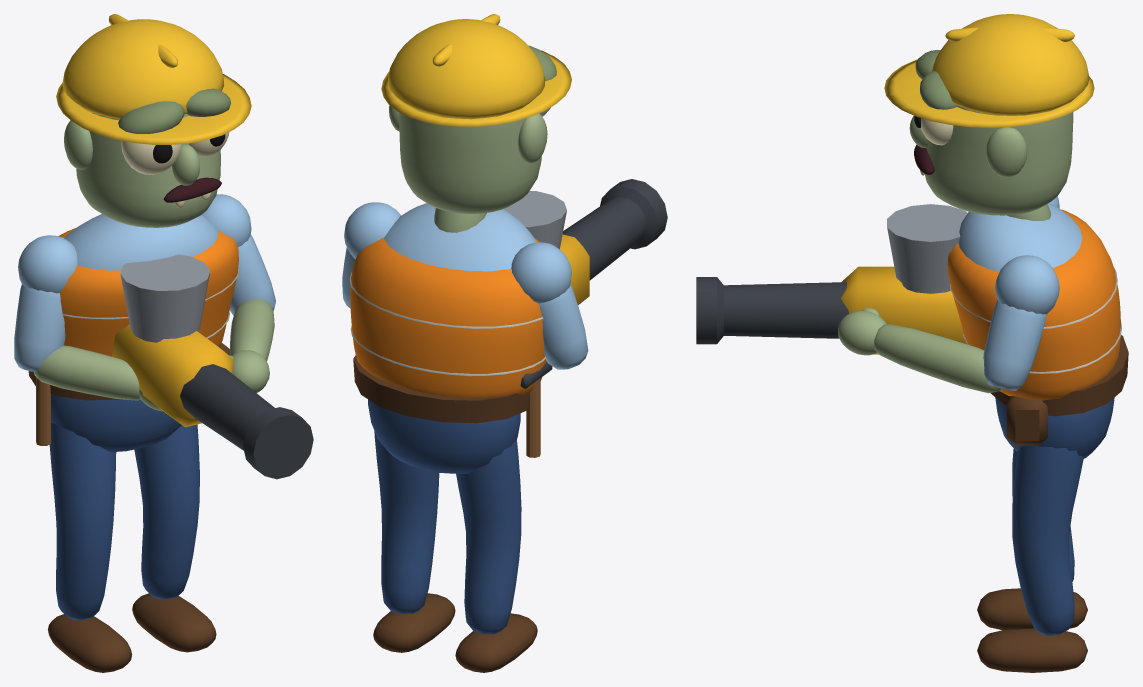
File: engineer.glb
The picture shows the model from 3 angles, left to right: view 1: azimuth 30°, elevation 25°; view 2: azimuth 150°, elevation 25°; view 3: azimuth 270°, elevation 25°; orthographic projection. The views are drawn at different scales.
Visible parts, largest first — view 1: Weapon, Hardhat, Head, LegR, LegL, ArmR, Vest, ArmL, Torso, Hips, Belt; view 2: Vest, Hardhat, Head, LegR, LegL, Weapon, Torso, Hips, Belt, ArmR, ArmL; view 3: Weapon, Hardhat, LegL, Head, Vest, ArmL, Torso, Belt, Hips, LegR.
Boxes of the visible parts, bbox=[...] form: Weapon: bbox=[112, 254, 313, 479]; Hardhat: bbox=[56, 14, 251, 144]; Head: bbox=[64, 88, 230, 227]; LegR: bbox=[48, 423, 131, 672]; LegL: bbox=[132, 424, 216, 652]; ArmR: bbox=[14, 235, 162, 411]; Vest: bbox=[58, 228, 238, 356]; ArmL: bbox=[202, 194, 275, 392]; Torso: bbox=[64, 214, 217, 270]; Hips: bbox=[51, 394, 181, 451]; Belt: bbox=[28, 343, 230, 445]; Vest: bbox=[349, 238, 546, 397]; Hardhat: bbox=[381, 14, 571, 126]; Head: bbox=[389, 45, 556, 213]; LegR: bbox=[455, 439, 537, 672]; LegL: bbox=[373, 431, 455, 652]; Weapon: bbox=[504, 179, 667, 305]; Torso: bbox=[384, 203, 536, 271]; Hips: bbox=[368, 399, 520, 473]; Belt: bbox=[353, 355, 552, 457]; ArmR: bbox=[511, 242, 588, 369]; ArmL: bbox=[342, 202, 401, 308]; Weapon: bbox=[696, 204, 967, 354]; Hardhat: bbox=[884, 14, 1094, 127]; LegL: bbox=[977, 445, 1087, 672]; Head: bbox=[909, 50, 1073, 215]; Vest: bbox=[947, 209, 1121, 400]; ArmL: bbox=[838, 255, 1059, 393]; Torso: bbox=[958, 203, 1082, 271]; Belt: bbox=[990, 335, 1128, 445]; Hips: bbox=[995, 397, 1114, 458]; LegR: bbox=[977, 448, 1087, 630].
Size of the model in its own units: 0.8332 by 2.01 by 1.25.
